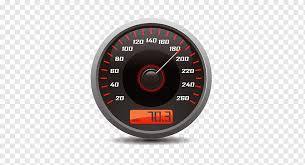Digital_Meter: (129, 108, 173, 126)
